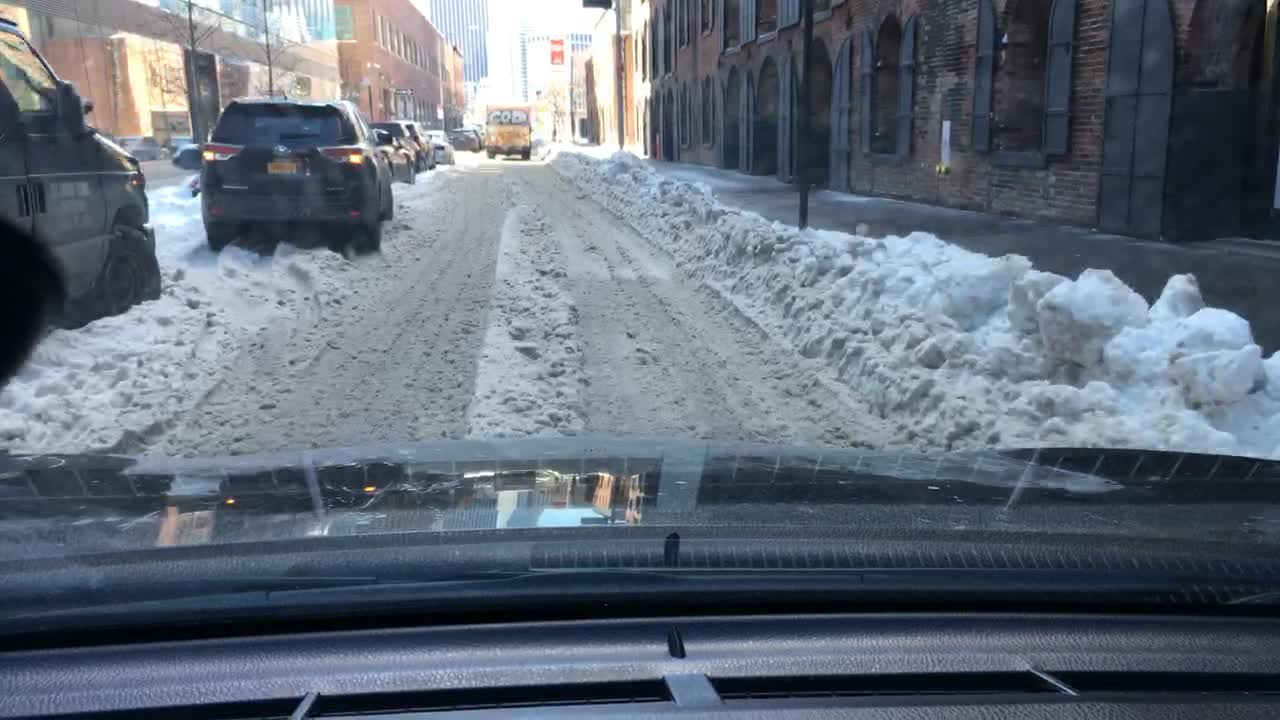car: (1, 12, 161, 353), (195, 88, 394, 254), (371, 112, 432, 166), (369, 128, 415, 180), (420, 130, 457, 163), (448, 128, 481, 154), (469, 124, 483, 138)
truck: (485, 105, 530, 159)
